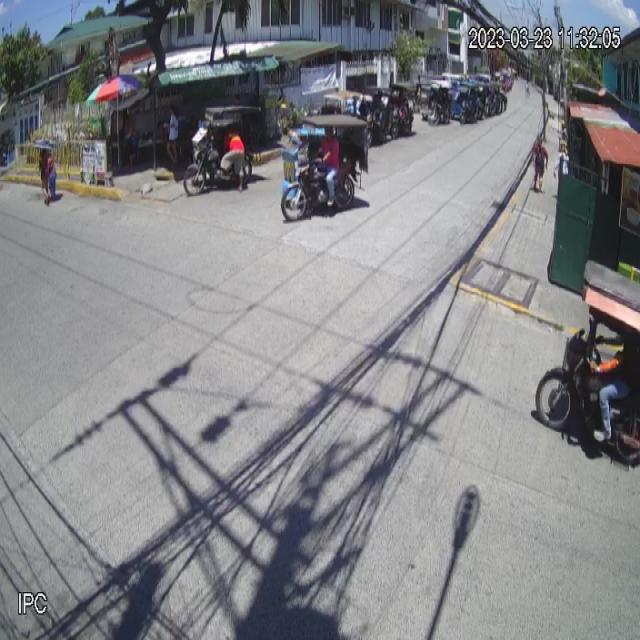Tricycle: (534, 257, 640, 463), (279, 112, 370, 224)
